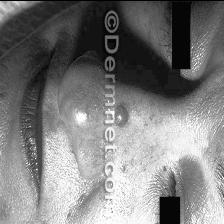Potentially Malignant Skin Tumors: (113, 100, 131, 132)
